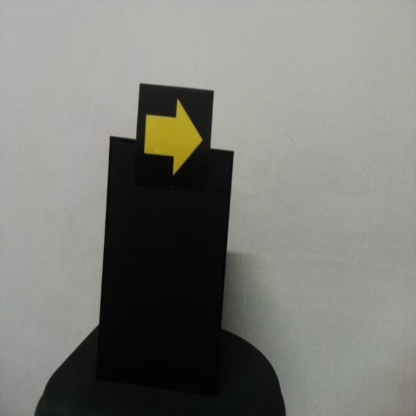id_3: (140, 87, 212, 191)
